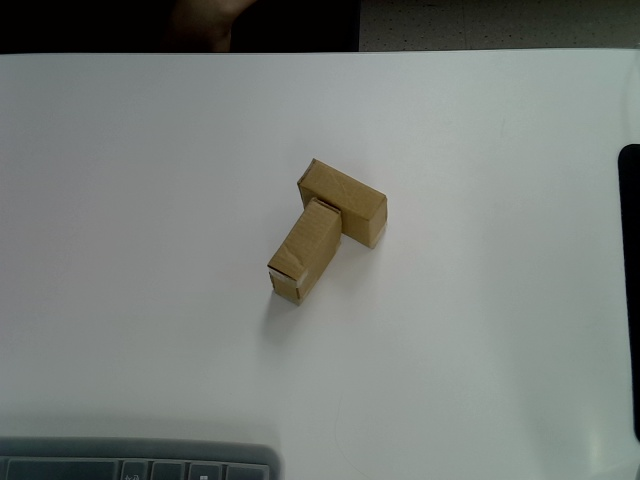normal: (297, 157, 388, 250), (268, 198, 342, 306)
